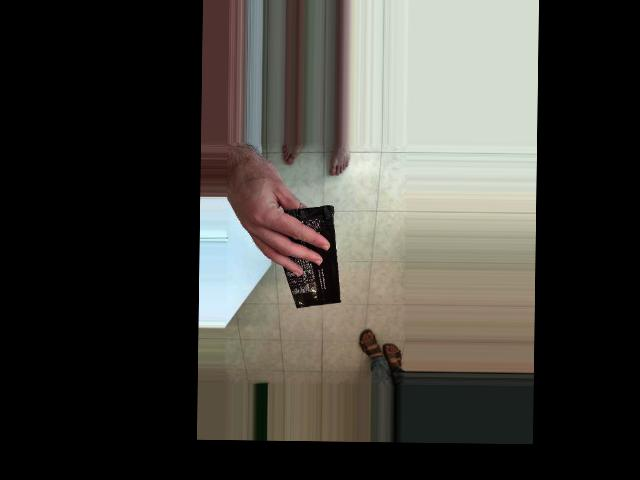chocolate: (298, 242, 419, 324)
